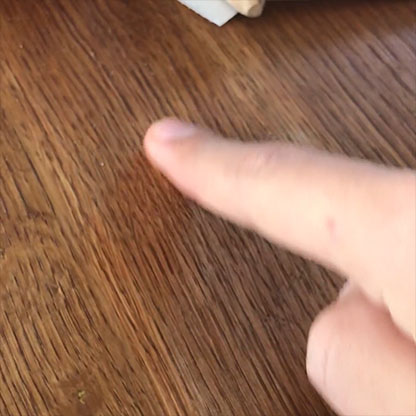fingertip: (125, 105, 225, 195)
